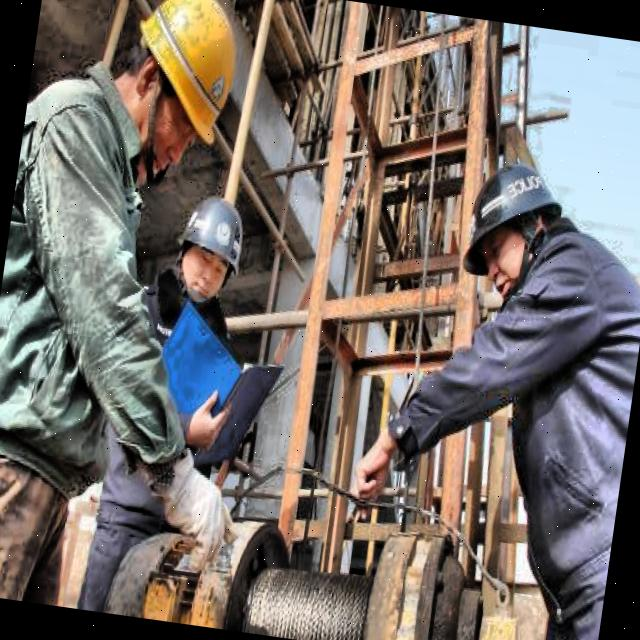helmet: (109, 0, 262, 187), (440, 120, 579, 319), (165, 183, 254, 324)
